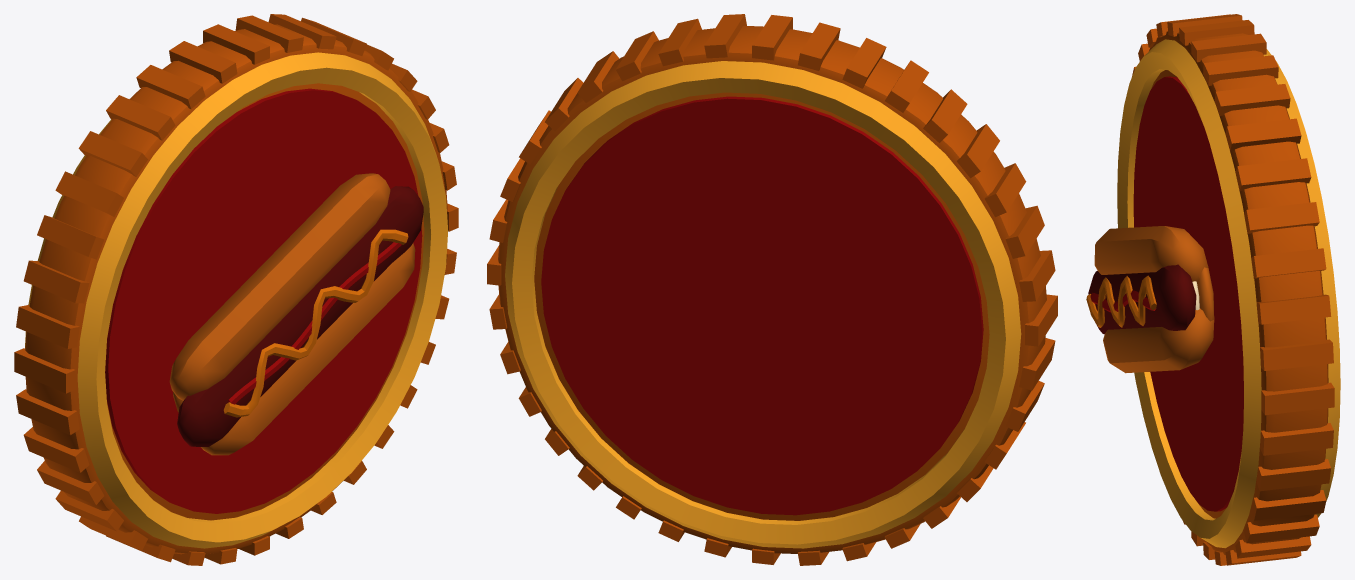
Rendered from Coin.obj.
The picture shows the model from 3 angles, left to right: view 1: azimuth 30°, elevation 25°; view 2: azimuth 150°, elevation 25°; view 3: azimuth 270°, elevation 25°; orthographic projection. The views are drawn at different scales.
Parts seen in each view (by area): view 1: Coin; view 2: Coin; view 3: Coin.
Part boxes in pixels (left/top/right/bottom): Coin: left=14, top=14, right=458, bottom=565; Coin: left=487, top=14, right=1057, bottom=565; Coin: left=1086, top=14, right=1340, bottom=565.
Bounding box in the file's own units: 2.05 × 2.05 × 0.9524.
